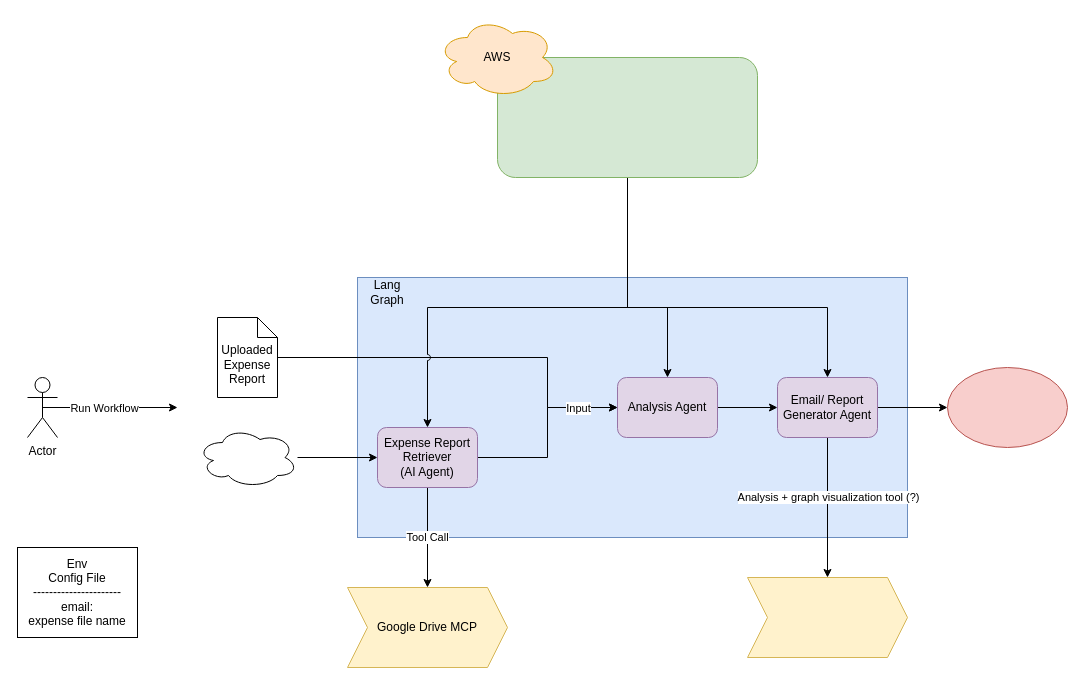
Image size: 1085x685. Some labels were removed from this diagram. Each missing label, with the box of its shape:
AWS Bedrock LLM API (Claude): (496, 56, 758, 178)
Gmail MCP: (746, 576, 908, 658)
Google Sheet: (196, 426, 298, 488)
STOP: (946, 366, 1068, 448)
